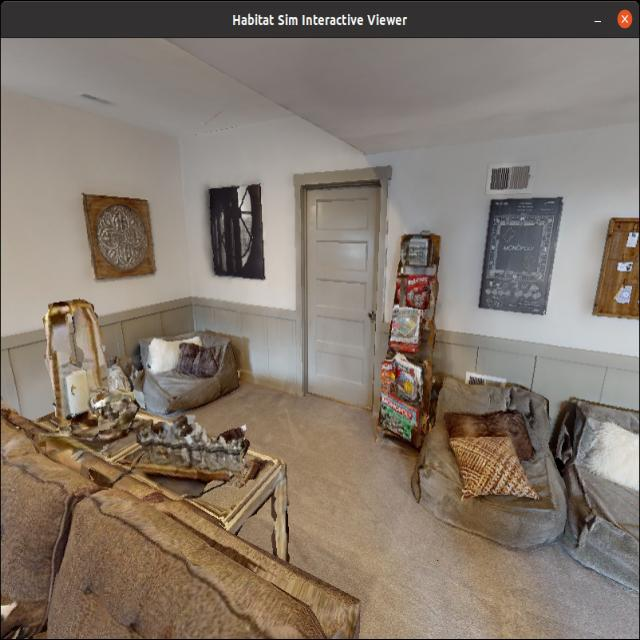door: (291, 167, 389, 422)
sofa: (409, 338, 567, 574), (560, 367, 640, 601)
table: (110, 387, 318, 604)
